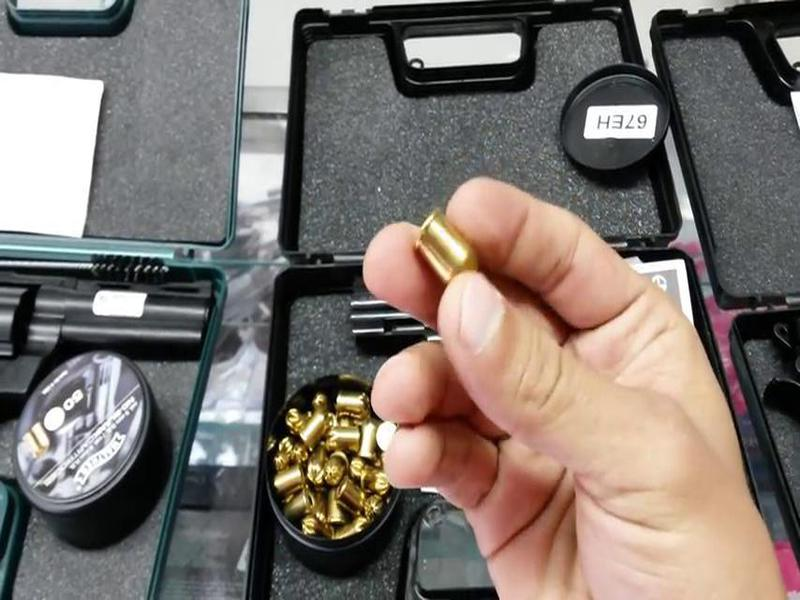Revolver: (1, 241, 237, 414)
